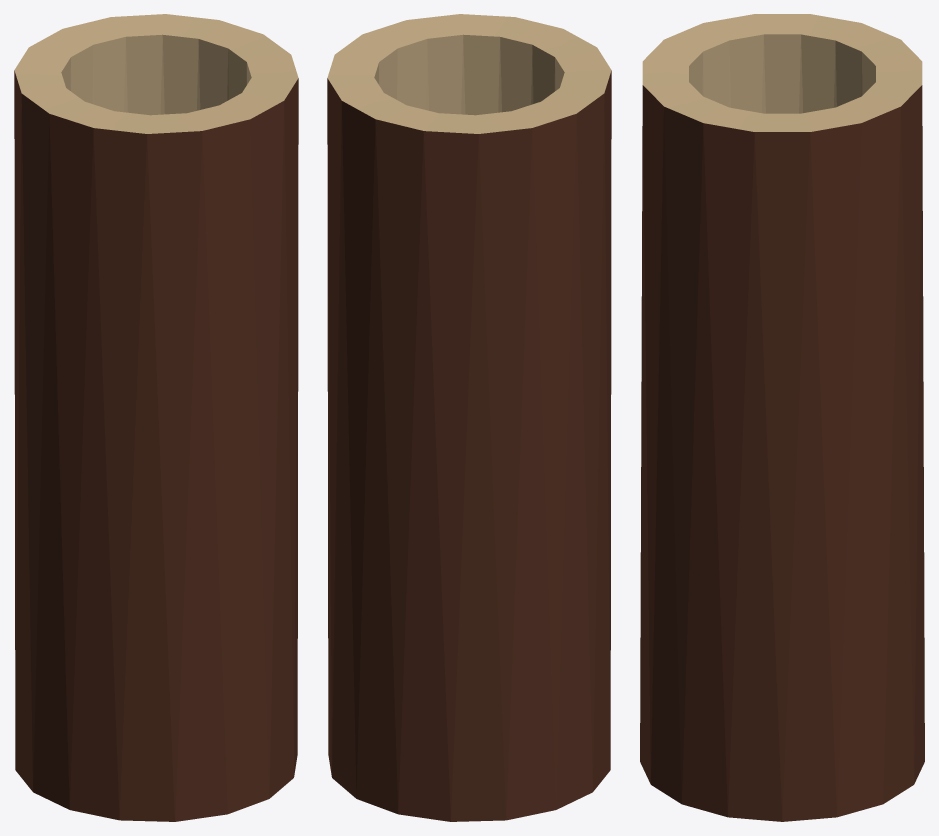
The model's file is Tunnel.fbx.
The picture shows the model from 3 angles, left to right: view 1: azimuth 30°, elevation 25°; view 2: azimuth 150°, elevation 25°; view 3: azimuth 270°, elevation 25°; orthographic projection.
Parts seen in each view (by area): view 1: Cylinder.003; view 2: Cylinder.003; view 3: Cylinder.003.
Part boxes in pixels (bbox=[...]): Cylinder.003: bbox=[14, 14, 298, 821]; Cylinder.003: bbox=[327, 14, 611, 821]; Cylinder.003: bbox=[640, 14, 924, 821].
Size of the model in its own units: 300 by 800 by 300.
